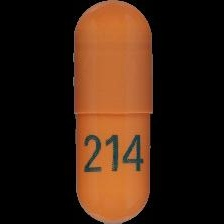55154-3582: (0, 0, 224, 224)
